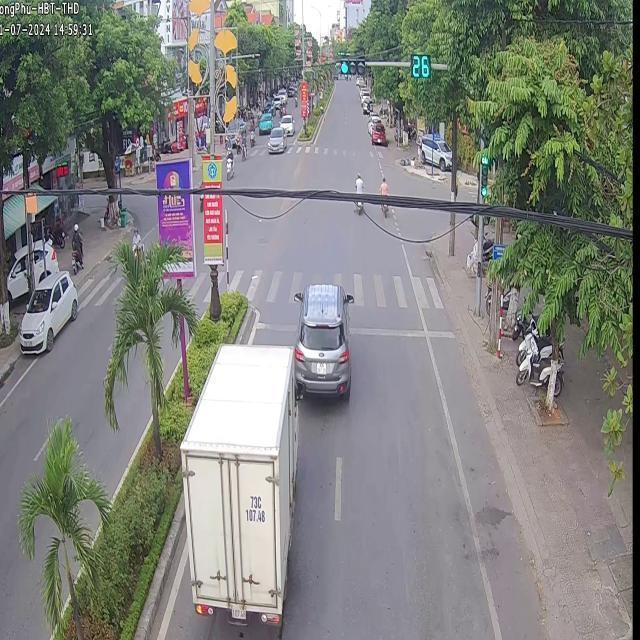car: (179, 342, 296, 622), (293, 282, 352, 398), (18, 269, 77, 351)
green_light: (340, 56, 364, 77), (410, 54, 431, 77), (479, 150, 488, 196)
stop_line: (348, 325, 423, 336), (254, 320, 294, 329), (427, 329, 450, 336)
